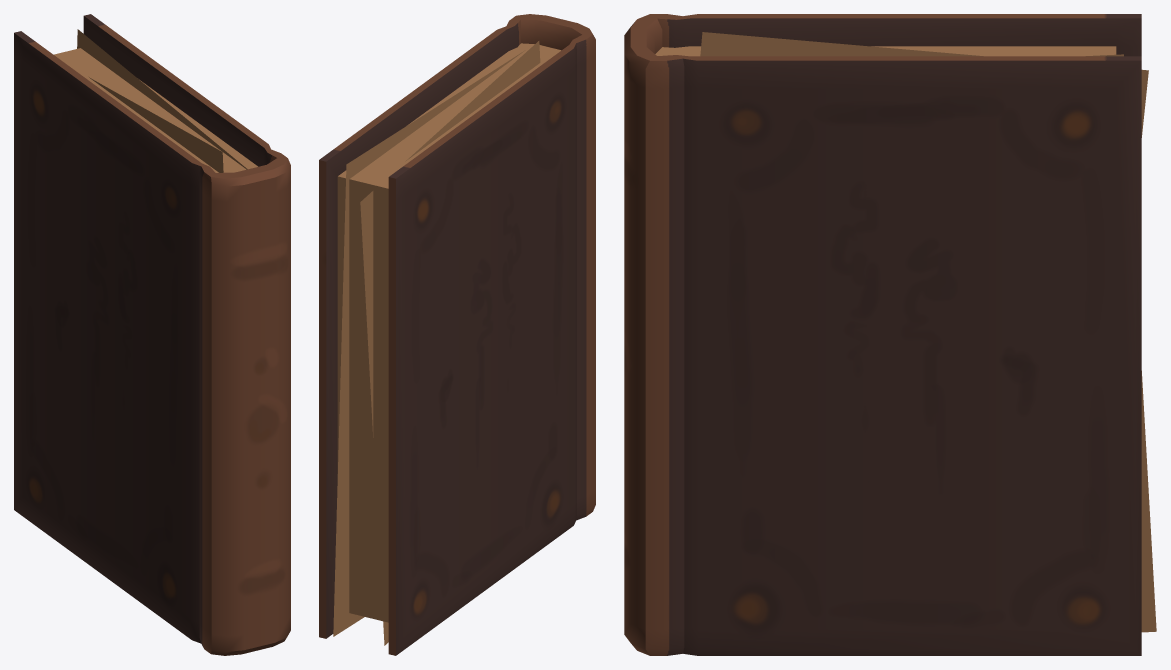
Rendered from FBX_Book_B_Thin.fbx.
The picture shows the model from 3 angles, left to right: view 1: azimuth 30°, elevation 25°; view 2: azimuth 150°, elevation 25°; view 3: azimuth 270°, elevation 25°; orthographic projection. The views are drawn at different scales.
Parts seen in each view (by area): view 1: Book_B_Thin; view 2: Book_B_Thin; view 3: Book_B_Thin.
Boxes of the visible parts, left/top/right/bottom form: Book_B_Thin: left=14, top=14, right=290, bottom=655; Book_B_Thin: left=319, top=14, right=595, bottom=655; Book_B_Thin: left=624, top=14, right=1156, bottom=655.
Bounding box in the file's own units: 0.059 × 0.3503 × 0.2753.
